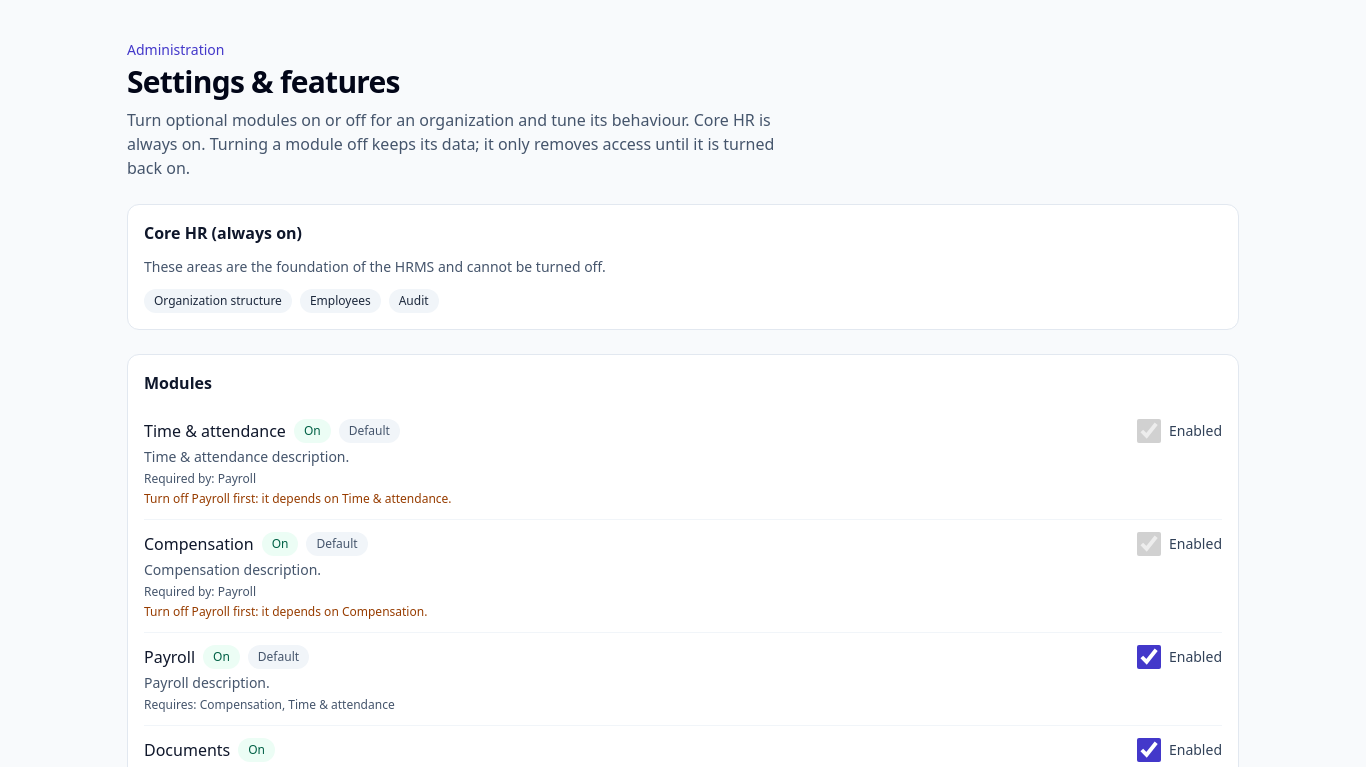
FeaturesAdminPage › shows the dependency refusal of the API and reloads
Expected: the switch named "Payroll enabled" is shown, [1137,645,1161,669]
Click the switch named "Documents enabled": {"x": 1149, "y": 750} [1137,738,1161,762]
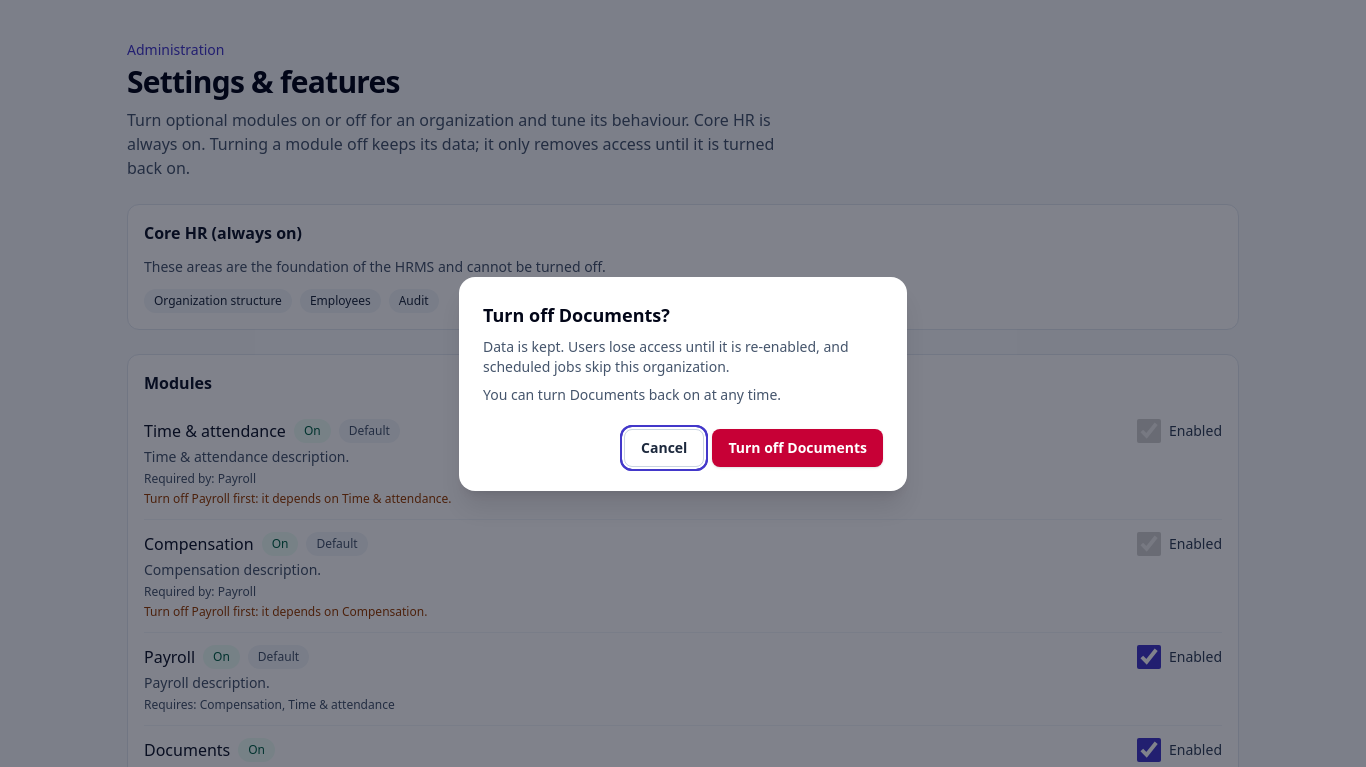
Click the button "Turn off Documents": {"x": 798, "y": 448} [712,429,883,467]
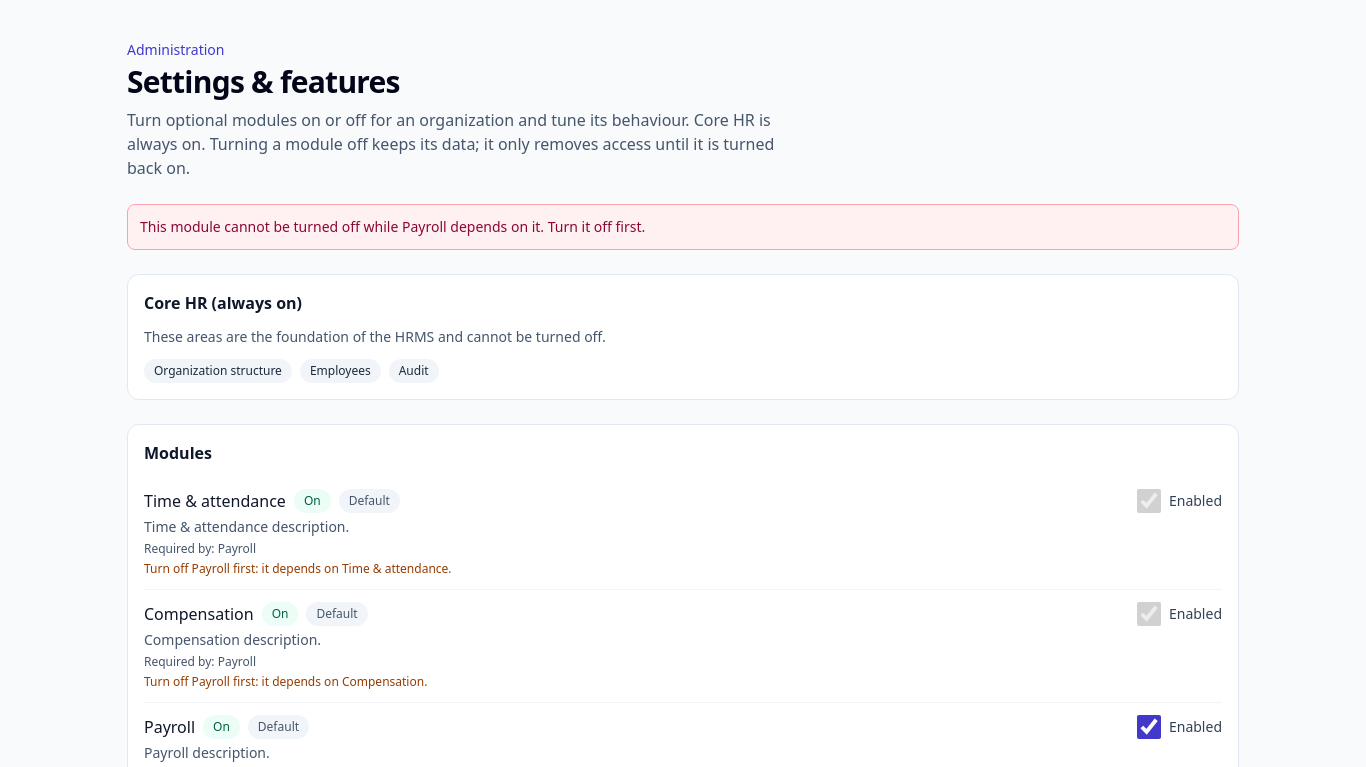
Expected: the message reads "This module cannot be turned off while Payroll depends on it. Turn it off first.", [140,217,645,236]
